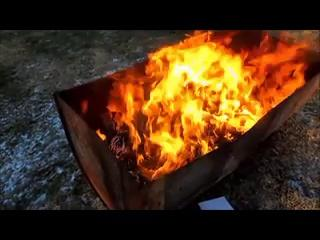Fire: (112, 34, 272, 156)
